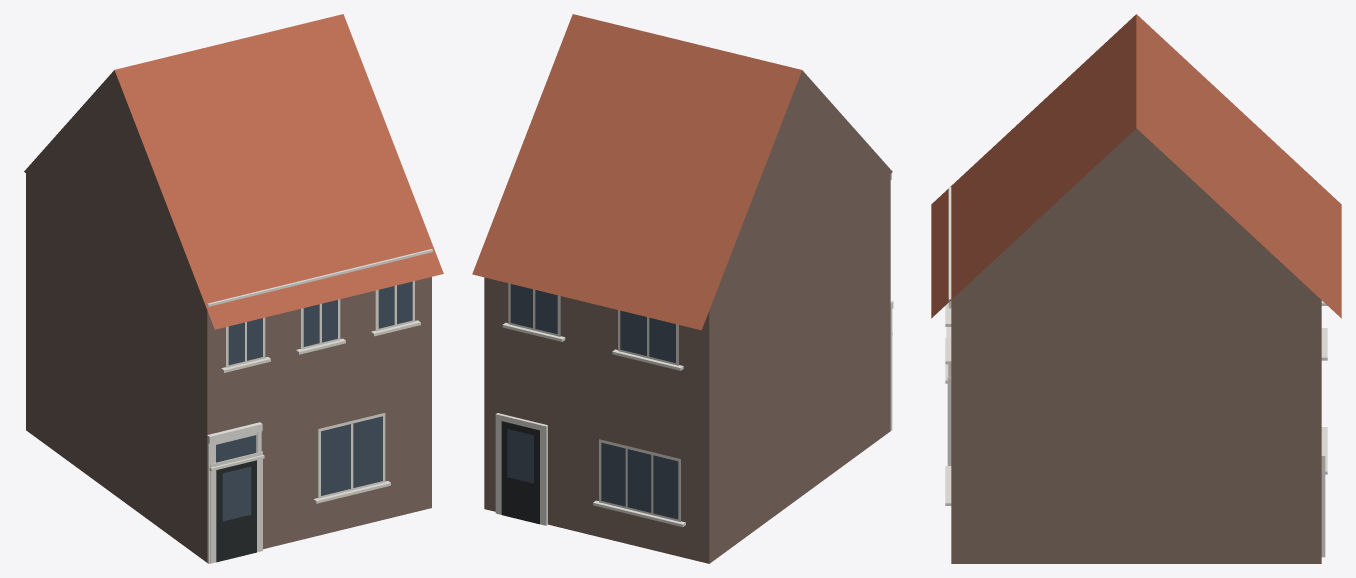
The model's file is nn-row-small__small__2__gable__long__solid__mid.glb.
3 renders of one model, left to right at view 1: azimuth 30°, elevation 25°; view 2: azimuth 150°, elevation 25°; view 3: azimuth 270°, elevation 25°, orthographic. The views are drawn at different scales.
Parts seen in each view (by area): view 1: nn-row-small__small__2__gable__long__solid__mid; view 2: nn-row-small__small__2__gable__long__solid__mid; view 3: nn-row-small__small__2__gable__long__solid__mid.
Part boxes in pixels (<box>): nn-row-small__small__2__gable__long__solid__mid: <box>24,14,443,563</box>; nn-row-small__small__2__gable__long__solid__mid: <box>472,14,893,563</box>; nn-row-small__small__2__gable__long__solid__mid: <box>931,14,1341,563</box>.
Bounding box in the file's own units: 5.36 × 9.56 × 8.15.
